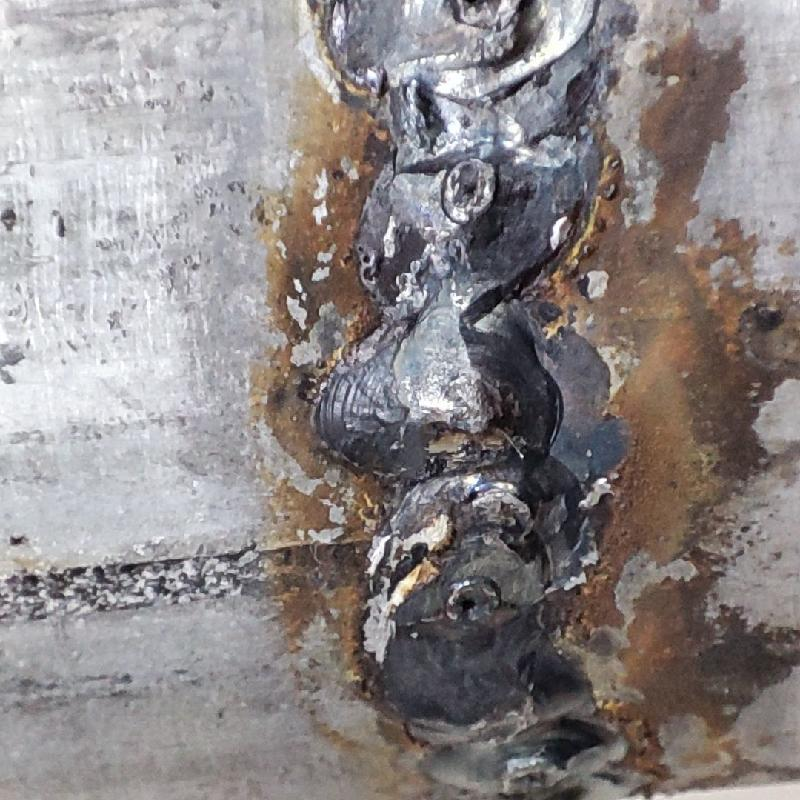Surface_pores: (438, 156, 497, 215), (443, 578, 495, 627)
